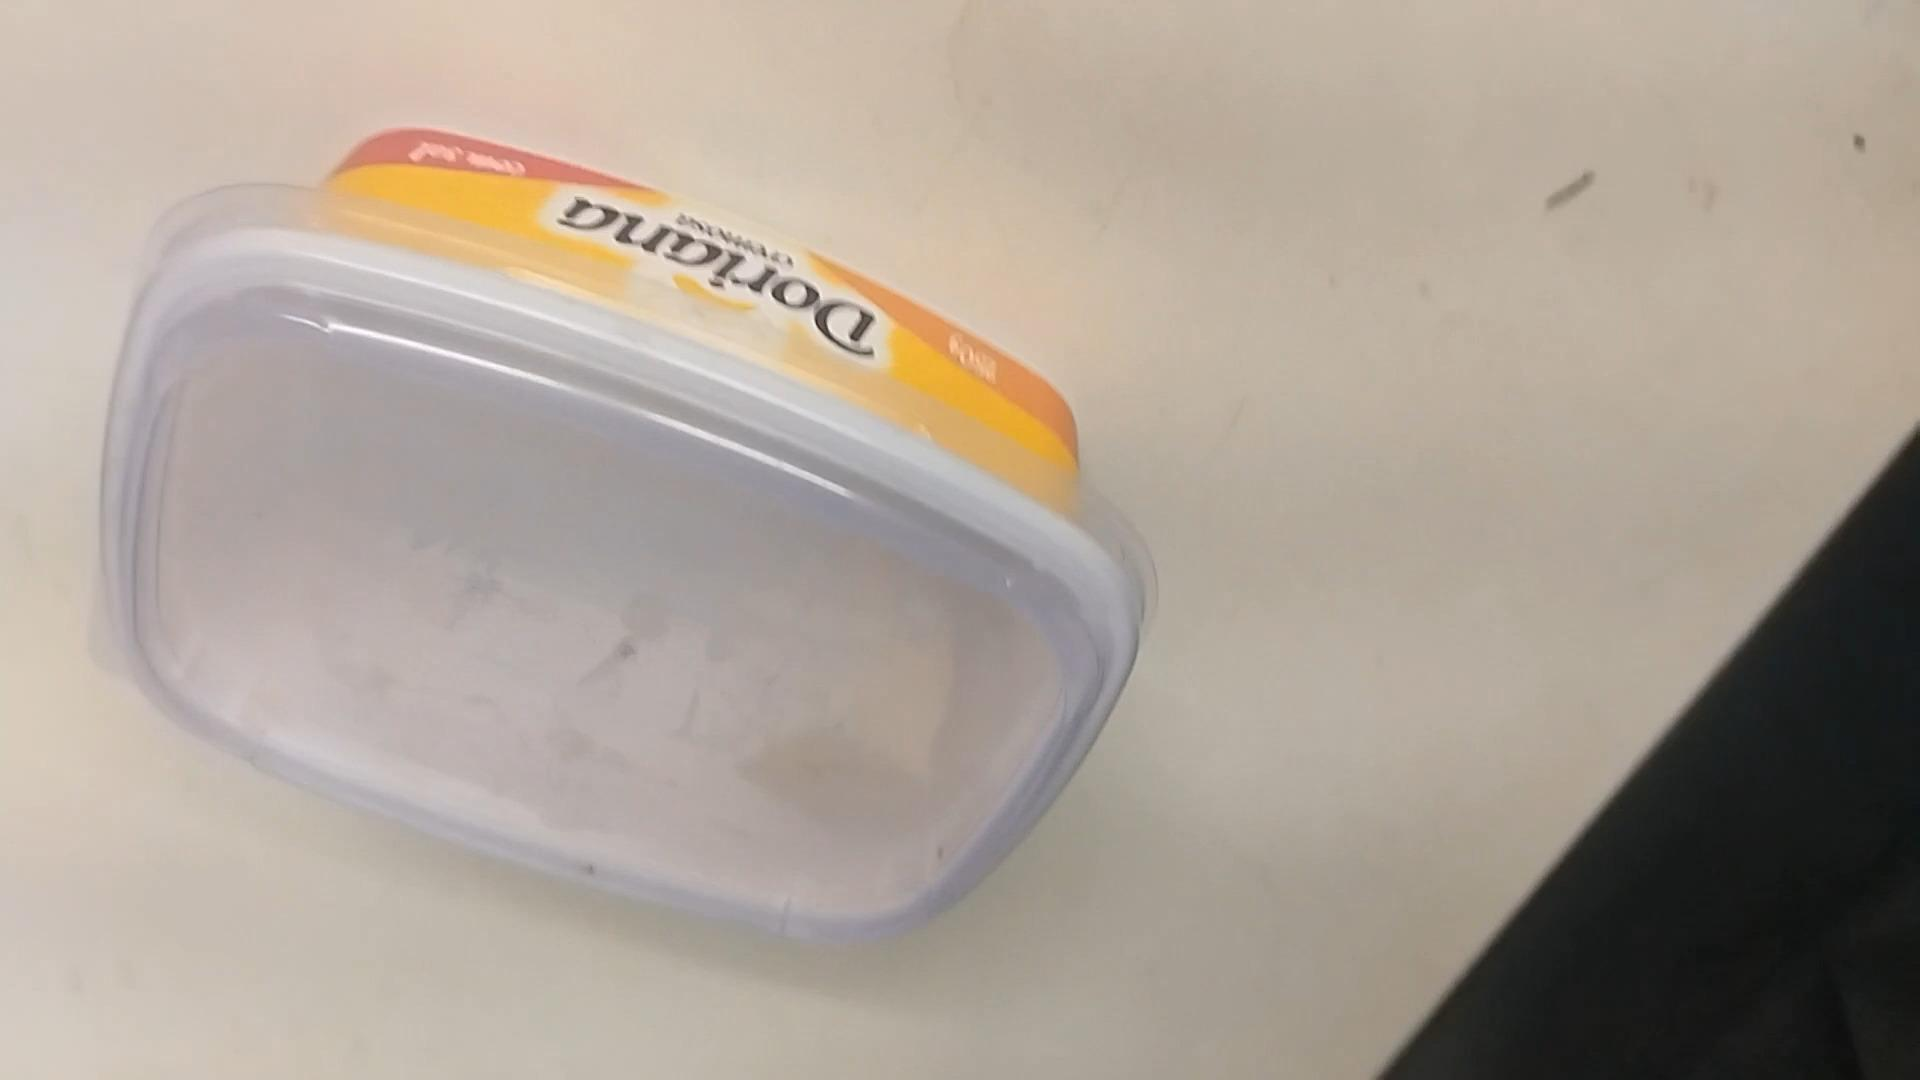butter: (79, 128, 1154, 956)
